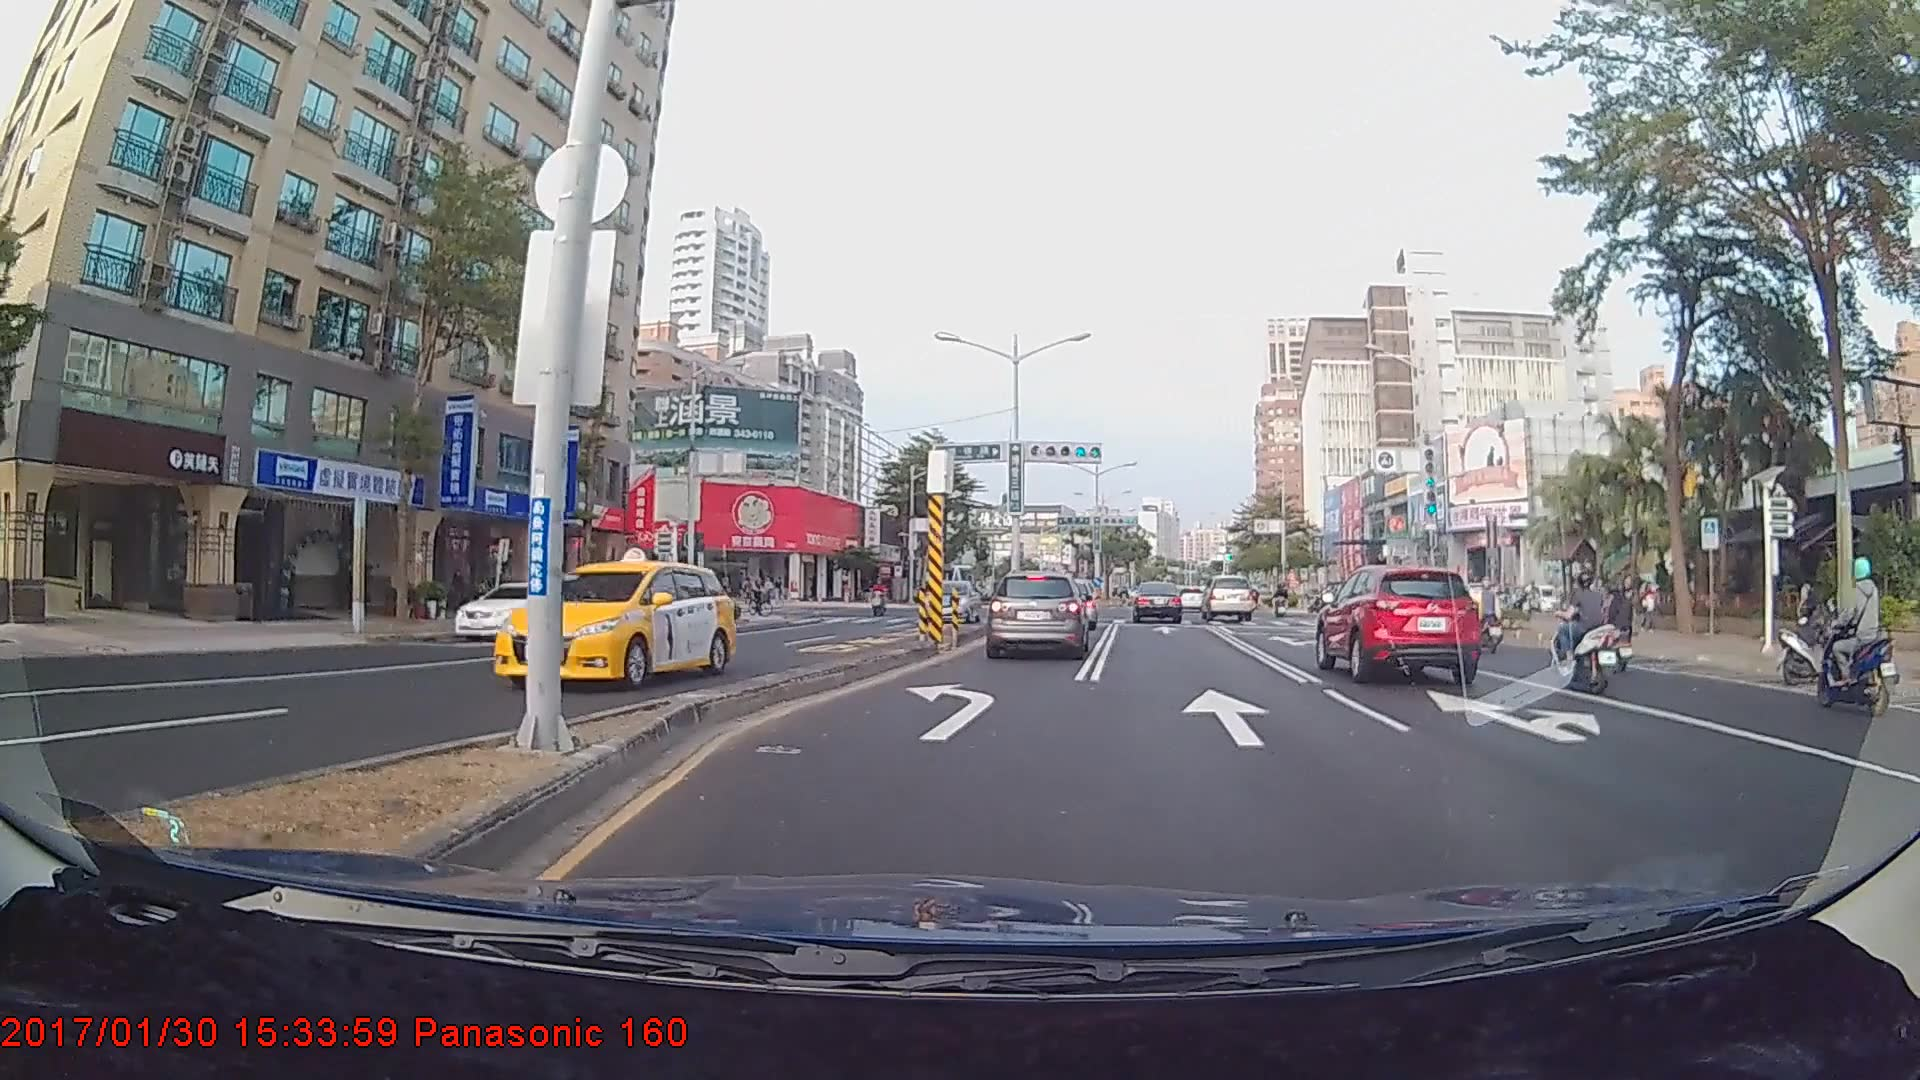rider: (1809, 557, 1896, 727), (1549, 568, 1629, 693)
vehicle: (492, 562, 734, 689), (1317, 561, 1483, 683), (984, 571, 1087, 659), (458, 579, 590, 643), (920, 579, 982, 622), (1200, 575, 1255, 622), (1131, 581, 1182, 624)
